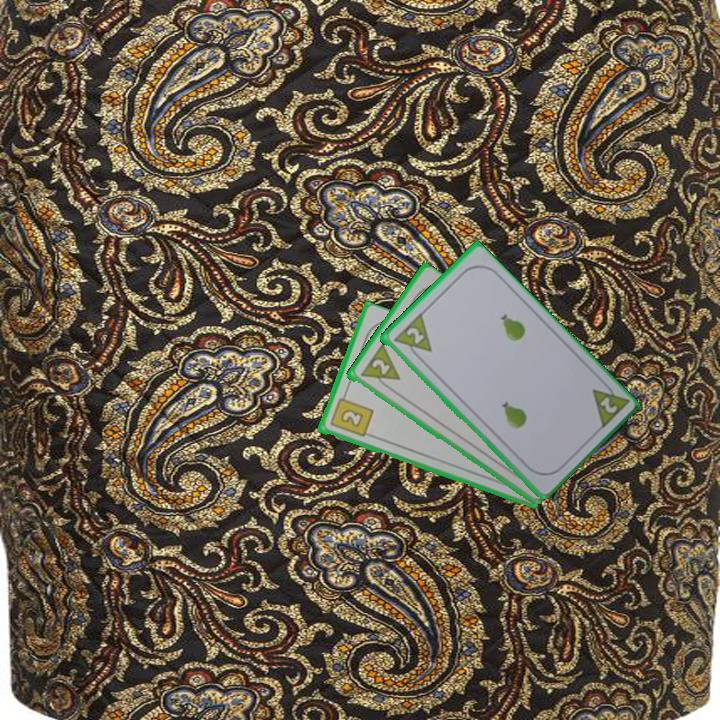2b: (326, 389, 375, 440)
2p: (356, 341, 402, 394), (402, 323, 427, 347), (596, 393, 620, 416)
